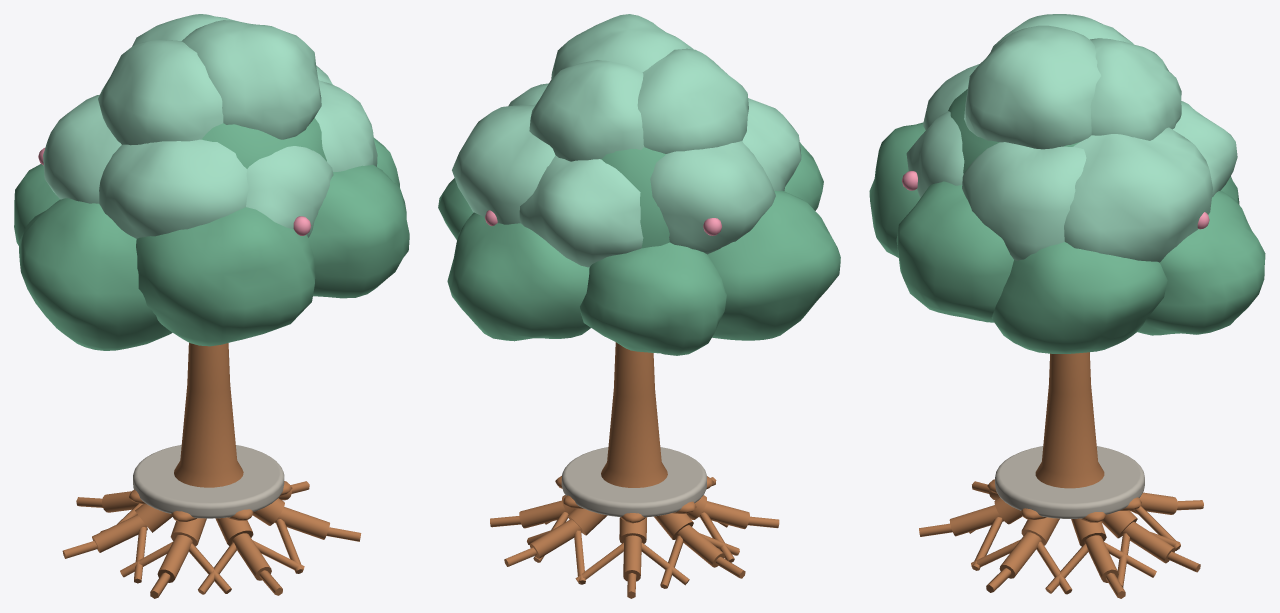
Rendered from tree_big.glb.
3 views of the same model, side by side, from view 1: azimuth 30°, elevation 25°; view 2: azimuth 150°, elevation 25°; view 3: azimuth 270°, elevation 25° (orthographic). The views are drawn at different scales.
Parts seen in each view (by area): view 1: tree_big; view 2: tree_big; view 3: tree_big.
Boxes of the visible parts, x1,y1,x2,y2 form: tree_big: (14, 14, 409, 598); tree_big: (438, 14, 840, 598); tree_big: (869, 14, 1265, 598).
Size of the model in its own units: 5.18 by 6.89 by 4.74.
1 material, 1 textured.
